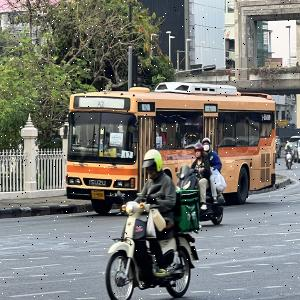BMTA-bus: (64, 83, 277, 215)
Bus Line Number: (95, 99, 108, 109)
Bus Side Number: (109, 192, 126, 198)
Destination Sign: (99, 149, 116, 157)
